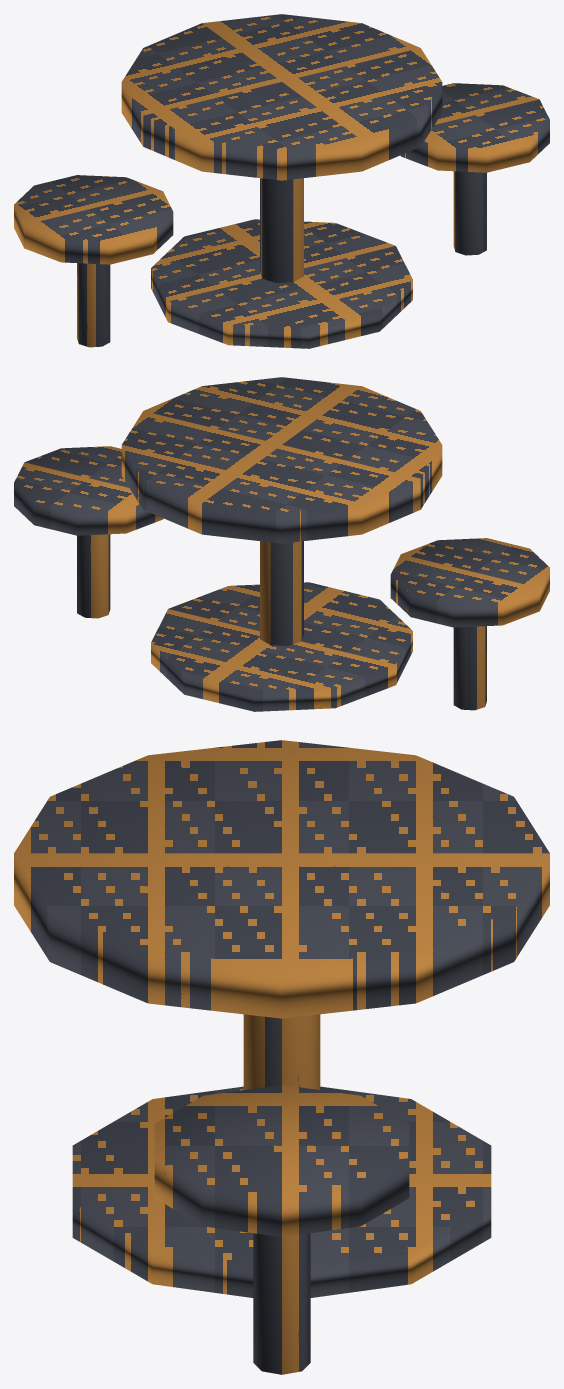
Rendered from SM_Prop_CairoCafeTable_A_LOD1.obj.
The picture shows the model from 3 angles, top to bottom: view 1: azimuth 30°, elevation 25°; view 2: azimuth 150°, elevation 25°; view 3: azimuth 270°, elevation 25°; orthographic projection. The views are drawn at different scales.
Visible parts, largest first — view 1: SM_Prop_CairoCafeTable_A_LOD1; view 2: SM_Prop_CairoCafeTable_A_LOD1; view 3: SM_Prop_CairoCafeTable_A_LOD1.
Part boxes in pixels (left/top/right/bottom): SM_Prop_CairoCafeTable_A_LOD1: left=14, top=14, right=549, bottom=348; SM_Prop_CairoCafeTable_A_LOD1: left=14, top=377, right=549, bottom=711; SM_Prop_CairoCafeTable_A_LOD1: left=14, top=740, right=549, bottom=1374.
Size of the model in its own units: 2.08 by 0.82 by 1.12.
1 material, 1 textured.
